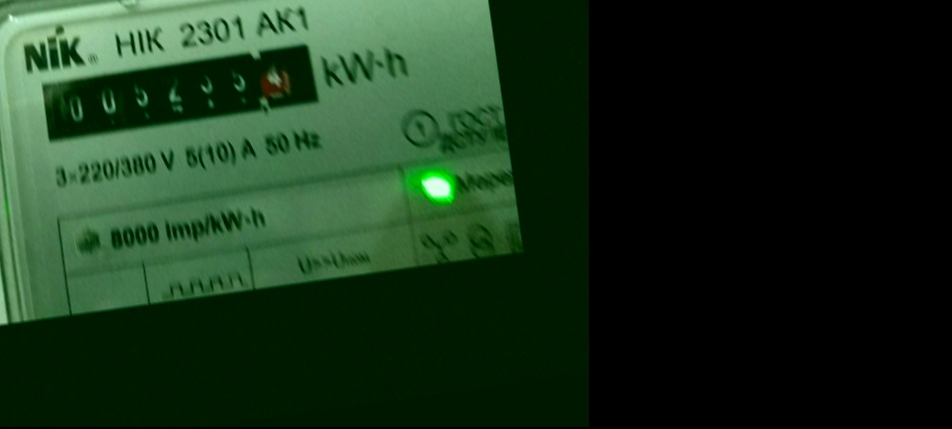0: (95, 82, 119, 117), (64, 91, 86, 124)
2: (160, 70, 185, 106)
3: (191, 63, 219, 99)
4: (259, 54, 286, 92)
5: (225, 57, 251, 96), (128, 75, 151, 111)
screen: (21, 28, 332, 156)
